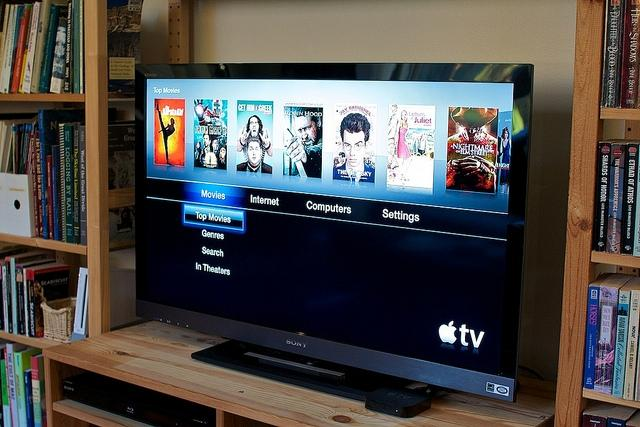apple: (439, 320, 457, 344)
